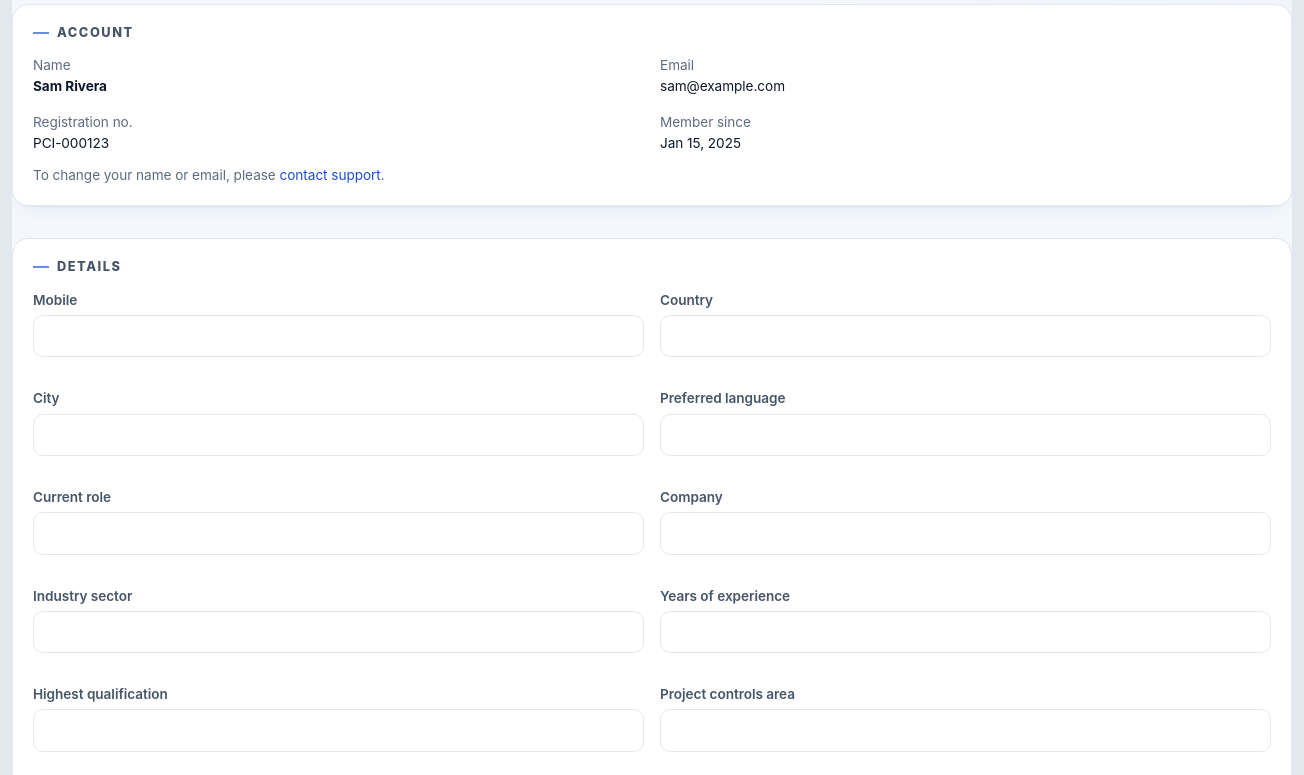
Test: Profile › profile details save › surfaces the server error message and does not clear the form
Type "+1999" into the field labelled "Mobile".
click(338, 336); type("+1999")  # box [33,315,644,357]
(page scrolled)
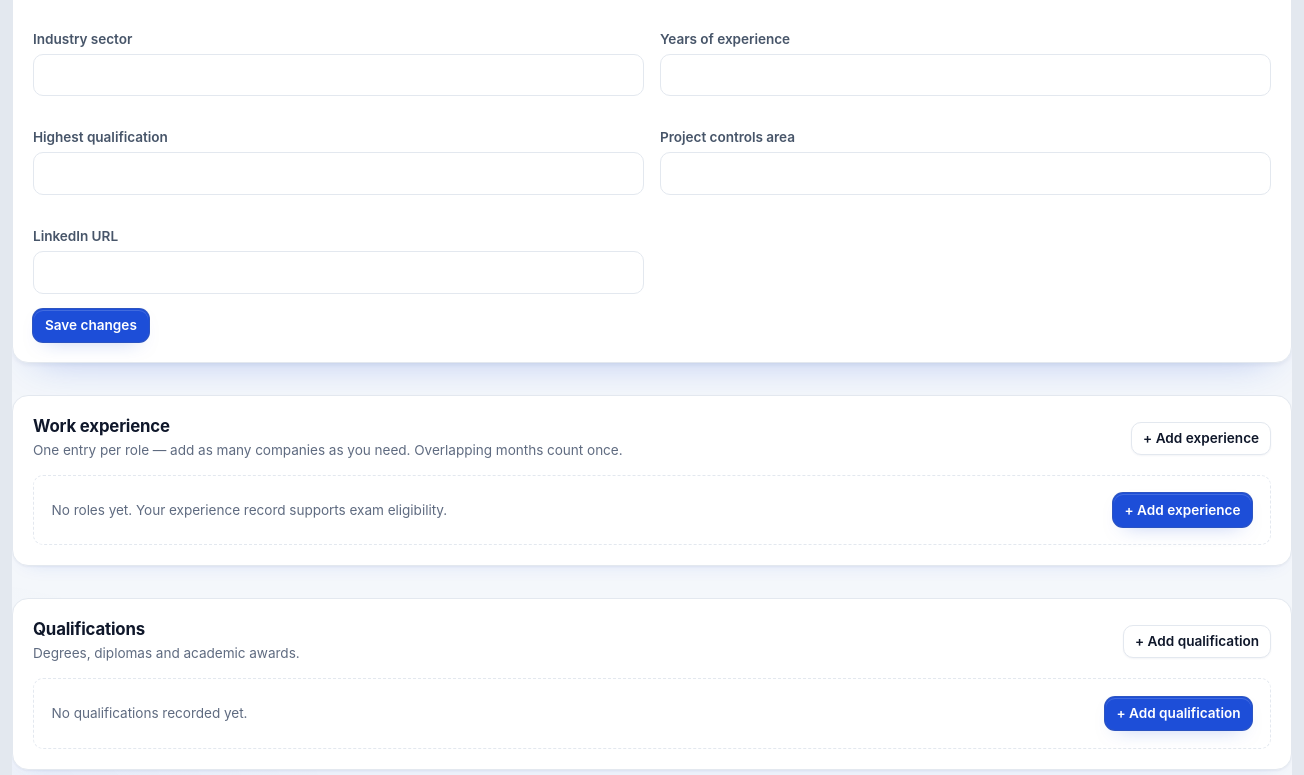
Click the button "Save changes".
click(91, 325)  # box [33,309,149,342]
(page scrolled)
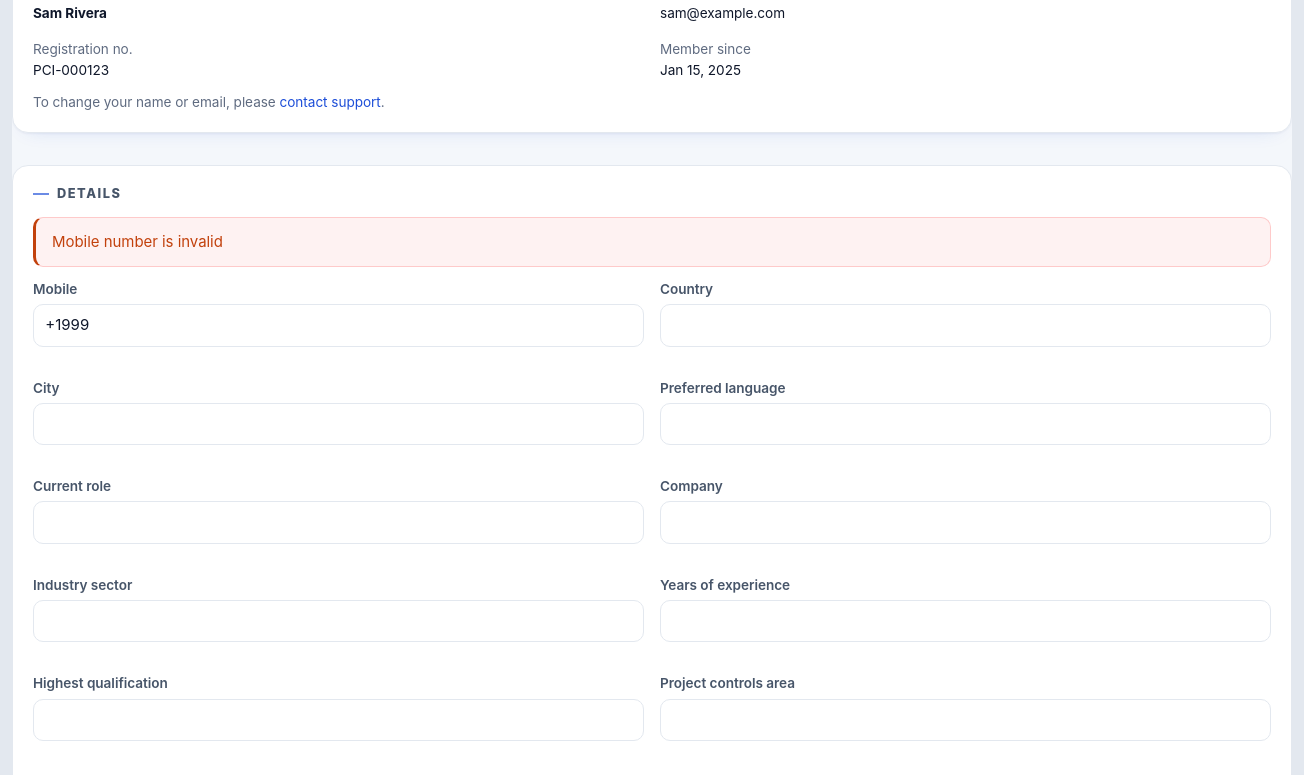
Expected: the message reads "Mobile number is invalid", [52,232,223,251]
